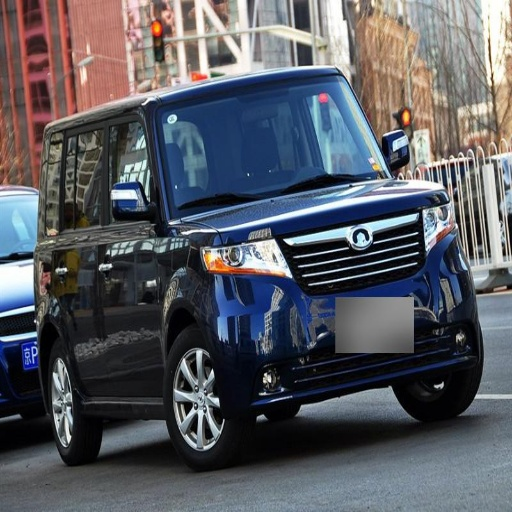front_bumper: (220, 207, 481, 400)
front_glass: (161, 79, 385, 195)
front_right_door: (120, 116, 153, 196)
front_right_light: (227, 226, 289, 276)
trunk: (33, 241, 199, 369)
